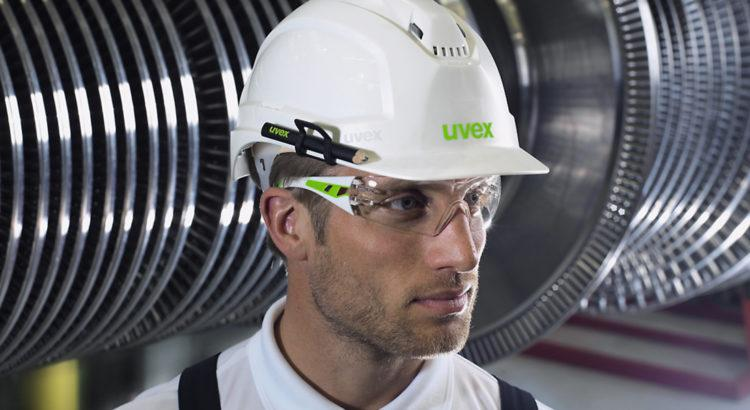helmet: (235, 1, 549, 179)
